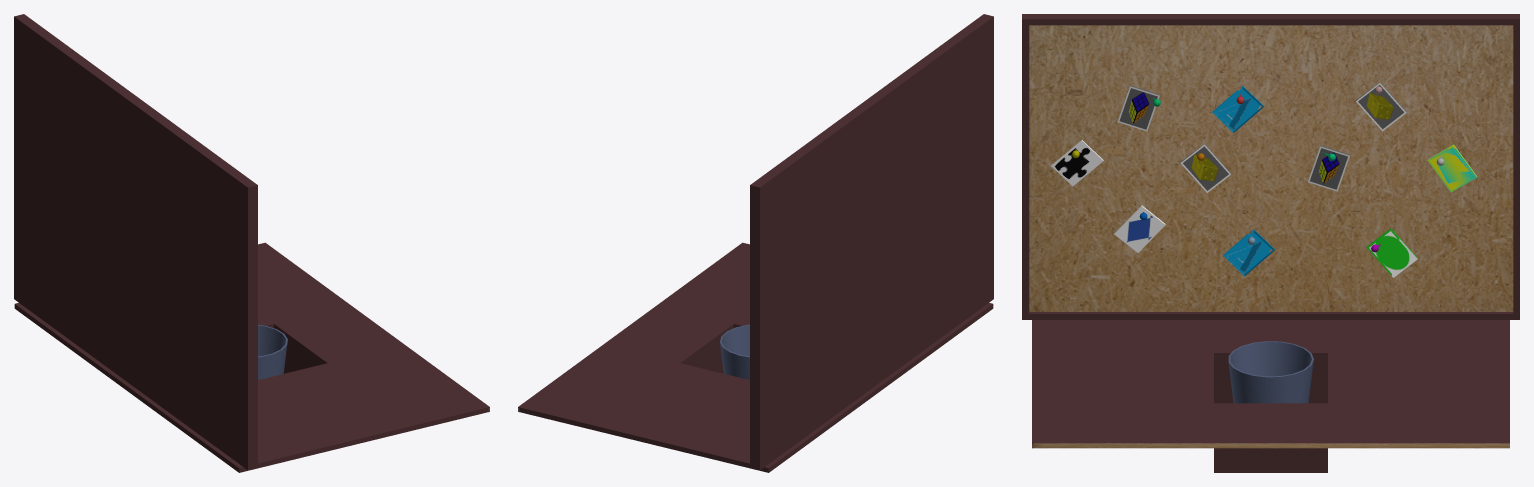
File: PostBoard_Background_V1.fbx
3 renders of one model, left to right at view 1: azimuth 30°, elevation 25°; view 2: azimuth 150°, elevation 25°; view 3: azimuth 270°, elevation 25°, orthographic. The views are drawn at different scales.
Visible parts, largest first — view 1: pCube15, pCube16, Cup; view 2: pCube15, pCube16, Cup; view 3: pCube15, pCube16, Cup.
Boxes of the visible parts, x1=… form: pCube15: x1=14, y1=14, x2=257, y2=470; pCube16: x1=14, y1=242, x2=489, y2=472; Cup: x1=258, y1=324, x2=287, y2=379; pCube15: x1=750, y1=14, x2=993, y2=470; pCube16: x1=518, y1=242, x2=993, y2=472; Cup: x1=720, y1=324, x2=749, y2=379; pCube15: x1=1022, y1=14, x2=1519, y2=319; pCube16: x1=1032, y1=320, x2=1509, y2=472; Cup: x1=1228, y1=341, x2=1313, y2=403.
Bounding box in the file's own units: 44.36 × 58.87 × 71.66.
Materials: 21 (8 with a texture image).
